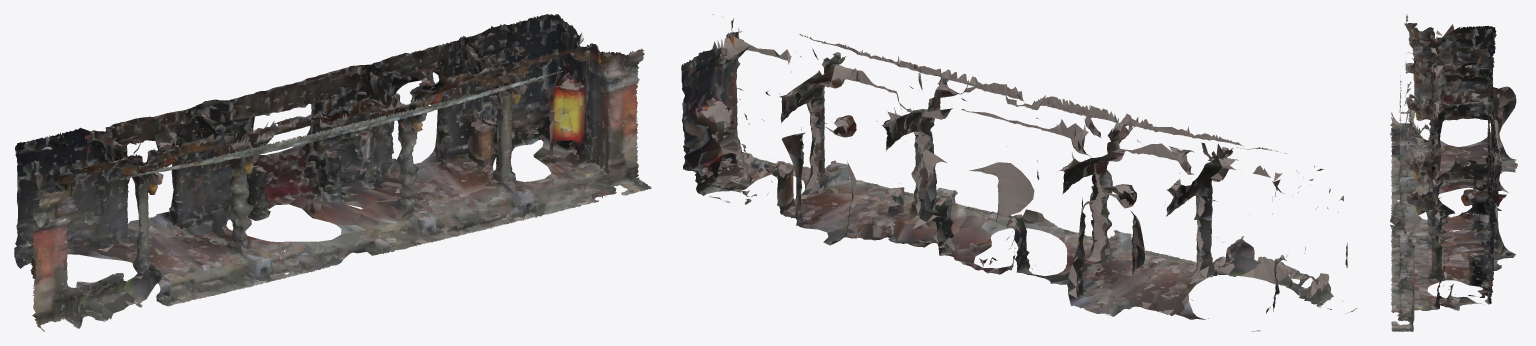
File: sanchuan-facade.glb
3 renders of one model, left to right at view 1: azimuth 30°, elevation 25°; view 2: azimuth 150°, elevation 25°; view 3: azimuth 270°, elevation 25°, orthographic. The views are drawn at different scales.
Visible parts, largest first — view 1: 三川殿正面（攝影測量）; view 2: 三川殿正面（攝影測量）; view 3: 三川殿正面（攝影測量）.
Part boxes in pixels (box(x1,y1,x2,y2)): 三川殿正面（攝影測量）: box(14, 14, 651, 331); 三川殿正面（攝影測量）: box(681, 14, 1357, 331); 三川殿正面（攝影測量）: box(1389, 14, 1517, 331).
Size of the model in its own units: 21.44 by 4.72 by 5.42.
1 material, 1 textured.
